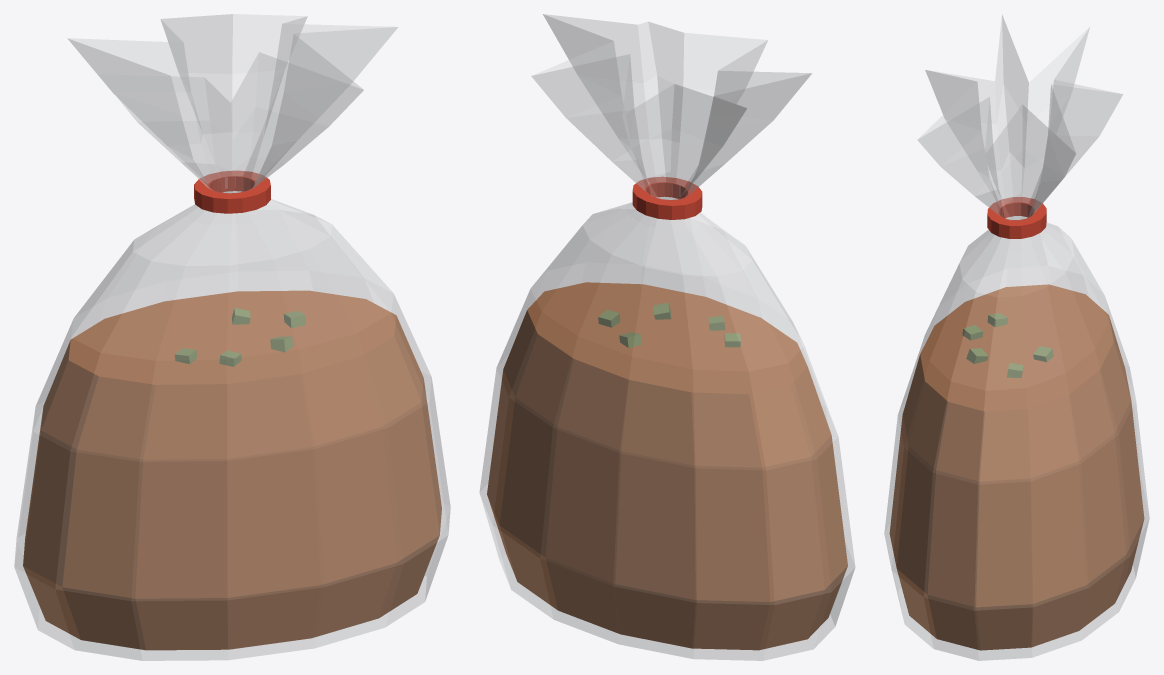
File: SoupBag.fbx
The picture shows the model from 3 angles, left to right: view 1: azimuth 30°, elevation 25°; view 2: azimuth 150°, elevation 25°; view 3: azimuth 270°, elevation 25°; orthographic projection. The views are drawn at different scales.
Parts seen in each view (by area): view 1: Soup_Plastic_Bag, Soup_Broth, Soup_Rubber_Band, Spring_Onions_Soup; view 2: Soup_Plastic_Bag, Soup_Broth, Soup_Rubber_Band, Spring_Onions_Soup; view 3: Soup_Plastic_Bag, Soup_Broth, Soup_Rubber_Band, Spring_Onions_Soup.
Part boxes in pixels (left/top/right/bottom): Soup_Plastic_Bag: left=14, top=14, right=450, bottom=660; Soup_Broth: left=23, top=290, right=441, bottom=650; Soup_Rubber_Band: left=194, top=170, right=270, bottom=213; Spring_Onions_Soup: left=174, top=308, right=305, bottom=366; Soup_Plastic_Bag: left=479, top=14, right=855, bottom=660; Soup_Broth: left=487, top=282, right=847, bottom=650; Soup_Rubber_Band: left=632, top=176, right=702, bottom=219; Spring_Onions_Soup: left=598, top=302, right=740, bottom=347; Soup_Plastic_Bag: left=884, top=15, right=1149, bottom=660; Soup_Broth: left=889, top=284, right=1144, bottom=650; Soup_Rubber_Band: left=987, top=197, right=1046, bottom=238; Spring_Onions_Soup: left=962, top=313, right=1053, bottom=377.
Bounding box in the file's own units: 180 × 253 × 119.
